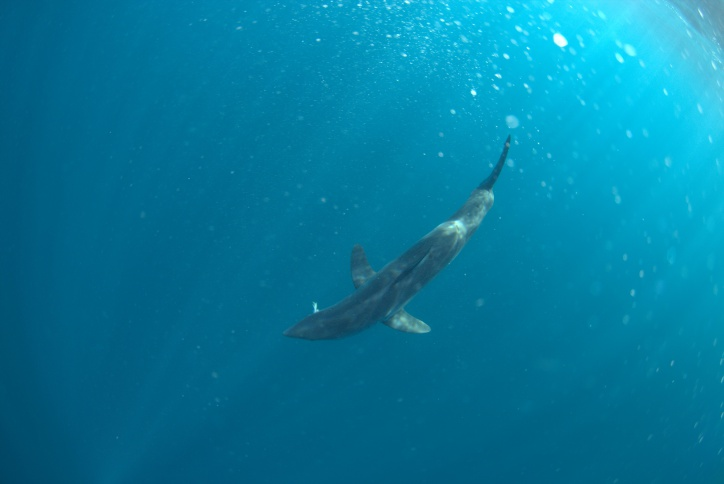Mako: (271, 126, 544, 365)
